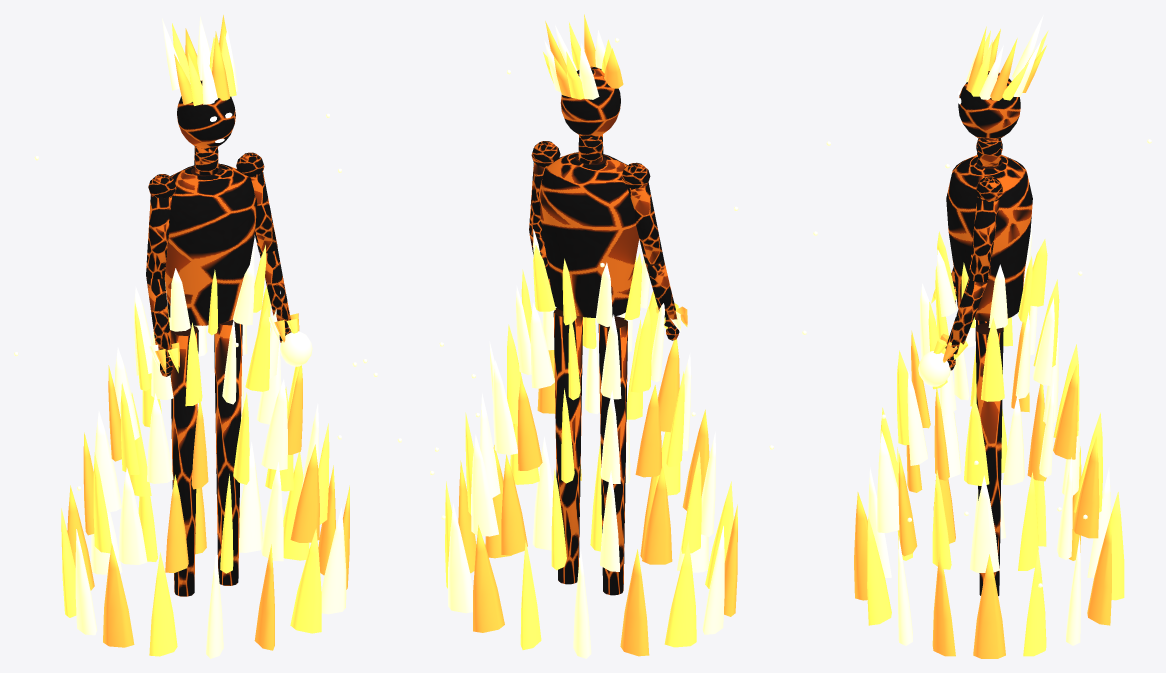
File: ember_spirit.glb
3 renders of one model, left to right at view 1: azimuth 30°, elevation 25°; view 2: azimuth 150°, elevation 25°; view 3: azimuth 270°, elevation 25°, orthographic. The views are drawn at different scales.
Parts seen in each view (by area): view 1: Ember_Root_FlameOrange, Ember_Root_FlameYellow, Body, Ember_Root_FlameRed, Tail_FlameYellow, LegLegB, LegLegA, ArmA_EmberCore, ArmB_EmberCore, Head_EmberCore, Tail_FlameRed, Tail_FlameOrange (+4 smaller); view 2: Ember_Root_FlameOrange, Tail_FlameYellow, Body, Ember_Root_FlameYellow, Tail_FlameRed, Ember_Root_FlameRed, Tail_FlameOrange, LegLegB, LegLegA, ArmA_EmberCore, Head_EmberCore, ArmB_EmberCore (+3 smaller); view 3: Ember_Root_FlameOrange, Ember_Root_FlameYellow, Ember_Root_FlameRed, Body, Tail_FlameYellow, Tail_FlameRed, Tail_FlameOrange, ArmB_EmberCore, LegLegB, Head_EmberCore, Head_FlameRed, Head_FlameYellow (+2 smaller).
Boxes of the visible parts, x1,y1,x2,y2 form: Ember_Root_FlameOrange: (61, 245, 329, 656); Ember_Root_FlameYellow: (14, 113, 401, 658); Body: (164, 163, 257, 325); Ember_Root_FlameRed: (103, 365, 349, 650); Tail_FlameYellow: (91, 285, 262, 574); LegLegB: (214, 319, 242, 585); LegLegA: (170, 325, 198, 596); ArmA_EmberCore: (146, 174, 176, 376); ArmB_EmberCore: (236, 152, 291, 342); Head_EmberCore: (177, 80, 235, 175); Tail_FlameRed: (67, 432, 206, 590); Tail_FlameOrange: (129, 306, 170, 561); Ember_Root_FlameOrange: (445, 253, 733, 647); Tail_FlameYellow: (448, 262, 621, 658); Body: (539, 152, 639, 317); Ember_Root_FlameYellow: (430, 38, 773, 634); Tail_FlameRed: (473, 378, 672, 656); Ember_Root_FlameRed: (458, 339, 737, 616); Tail_FlameOrange: (520, 245, 580, 649); LegLegB: (553, 308, 582, 584); LegLegA: (598, 316, 627, 595); ArmA_EmberCore: (621, 162, 679, 340); Head_EmberCore: (560, 66, 620, 164); ArmB_EmberCore: (529, 141, 560, 286); Ember_Root_FlameOrange: (867, 231, 1046, 656); Ember_Root_FlameYellow: (802, 139, 1151, 645); Ember_Root_FlameRed: (854, 322, 1029, 658); Body: (946, 154, 1032, 321); Tail_FlameYellow: (1015, 222, 1110, 645); Tail_FlameRed: (1027, 365, 1111, 625); Tail_FlameOrange: (1018, 239, 1124, 600); ArmB_EmberCore: (945, 176, 1002, 370); LegLegB: (975, 322, 1003, 595); Head_EmberCore: (958, 71, 1020, 167); Head_FlameRed: (966, 26, 1046, 100); Head_FlameYellow: (966, 15, 1043, 99).
Bounding box in the file's own units: 0.9868 × 1.74 × 0.9537.
5 materials, 1 textured.
